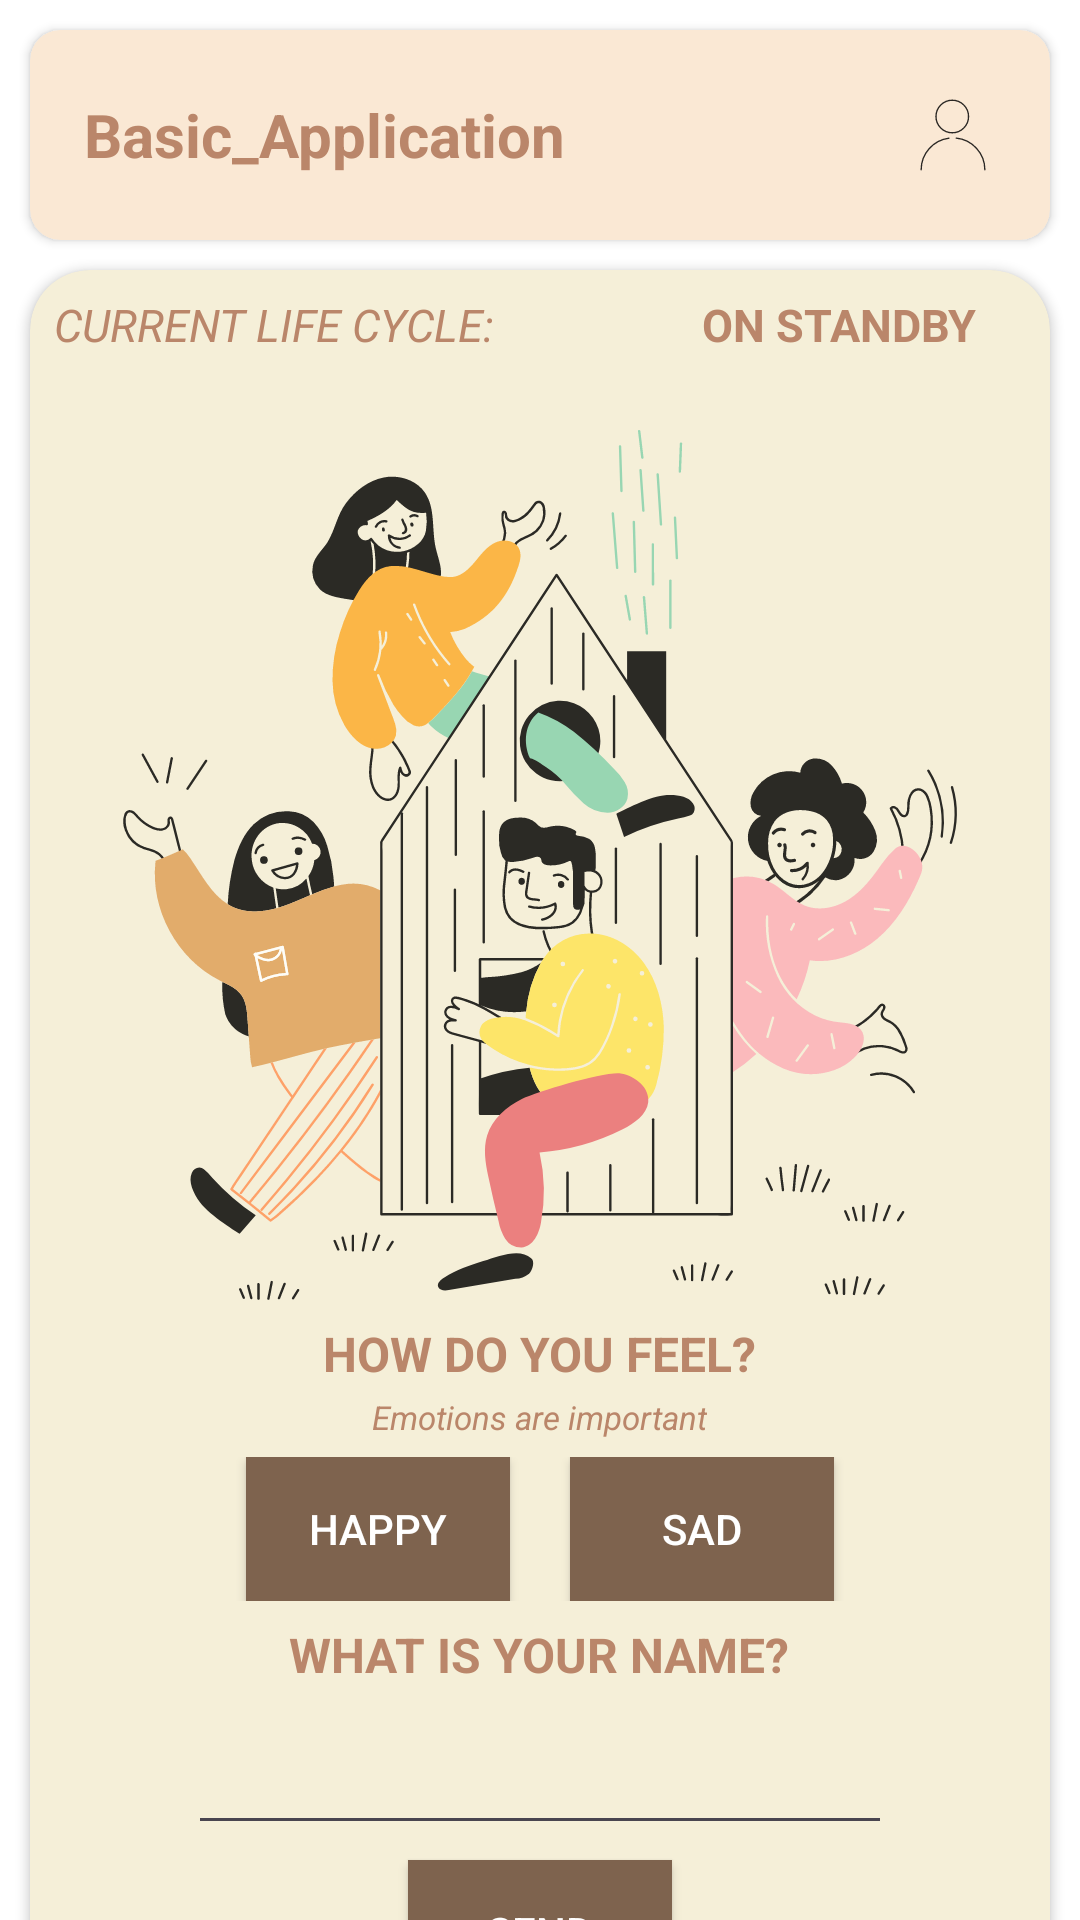

Icons on this 1080x1920 Android screen, each with its box as (x1, y1, x2, y2):
user: (920, 99, 986, 171)
